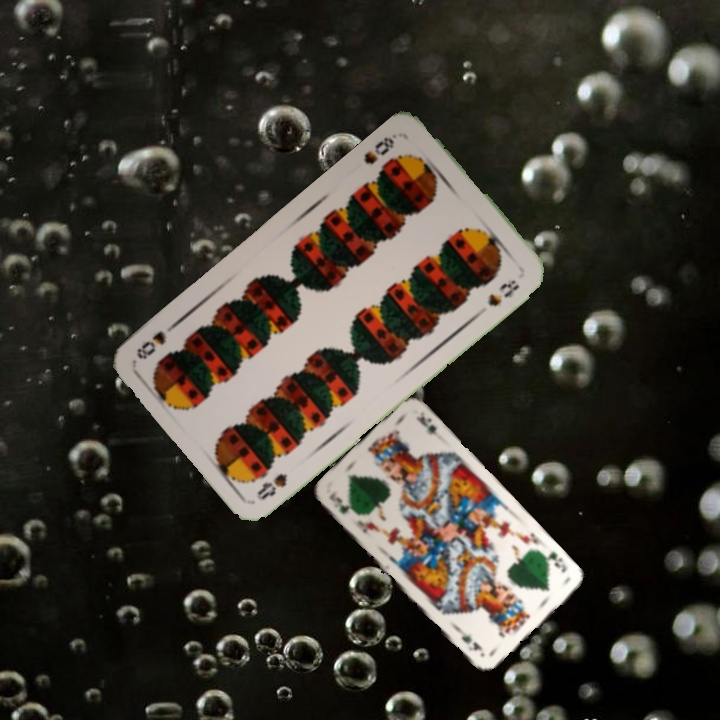GK: (538, 548, 570, 575), (325, 489, 352, 516)
S8: (359, 129, 400, 167), (252, 469, 290, 503)
